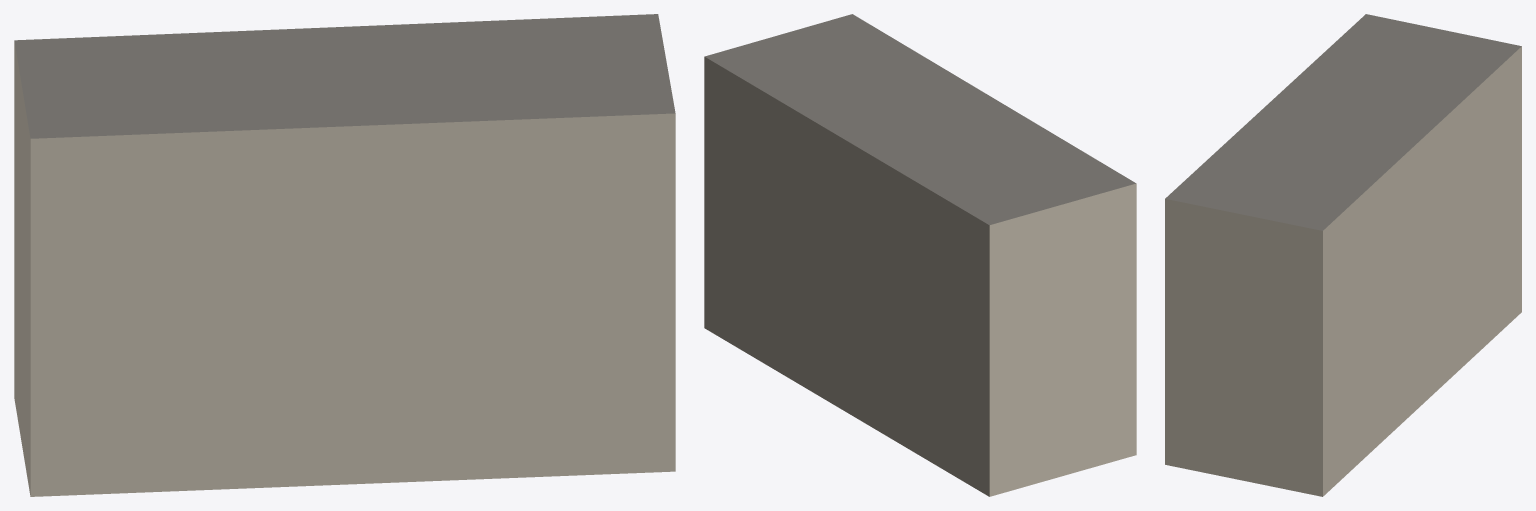
3 views of the same model, side by side, from view 1: azimuth 30°, elevation 25°; view 2: azimuth 150°, elevation 25°; view 3: azimuth 270°, elevation 25° (orthographic). The views are drawn at different scales.
Parts seen in each view (by area): view 1: HP-w505636162; view 2: HP-w505636162; view 3: HP-w505636162.
Boxes of the visible parts, box(x1,y1,x2,y2) form: HP-w505636162: box(14, 14, 675, 496); HP-w505636162: box(704, 14, 1136, 496); HP-w505636162: box(1165, 14, 1521, 496).
Size of the model in its own units: 20.99 by 12 by 14.59.
